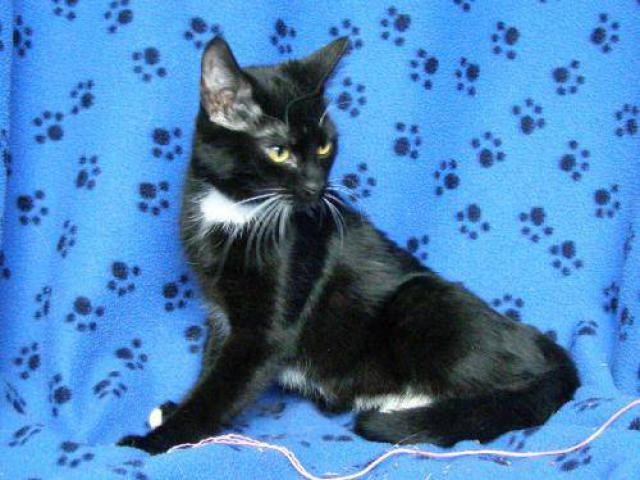cat: (143, 24, 570, 449)
